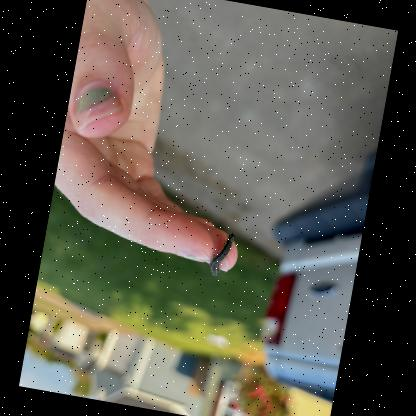Fall Armyworm Larvae: (205, 228, 237, 280)
